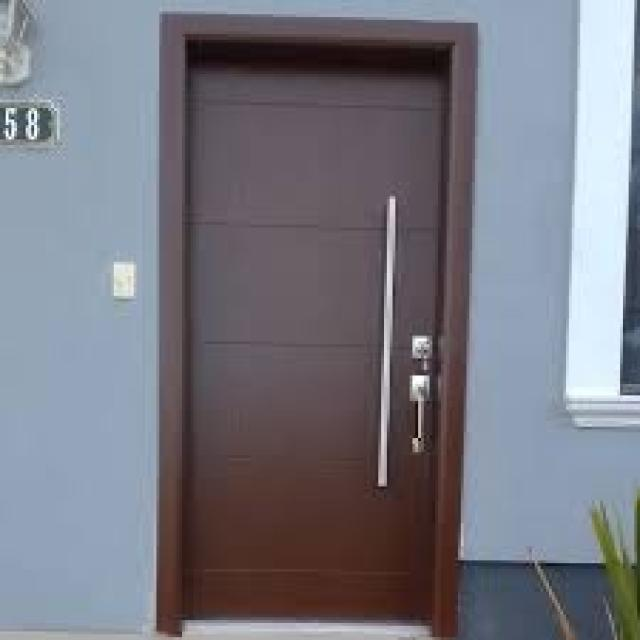door: (178, 34, 454, 632)
